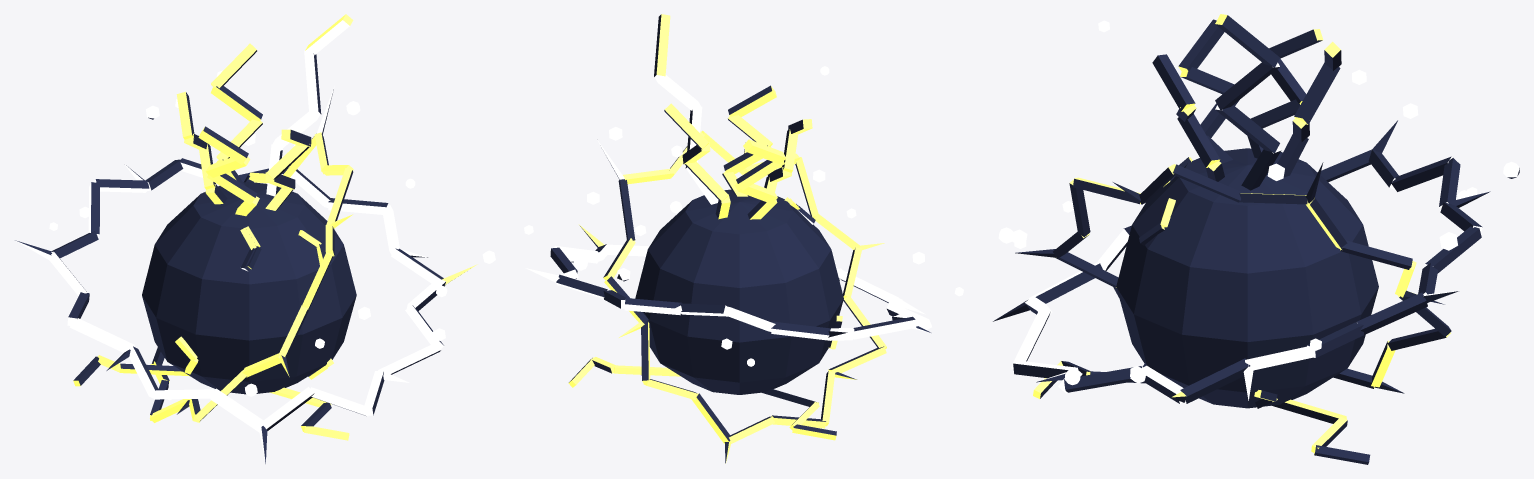
The model's file is fruto-trovao.glb.
3 renders of one model, left to right at view 1: azimuth 30°, elevation 25°; view 2: azimuth 150°, elevation 25°; view 3: azimuth 270°, elevation 25°, orthographic. The views are drawn at different scales.
Visible parts, largest first — view 1: Fruit_Body; view 2: Fruit_Body; view 3: Fruit_Body.
Boxes of the visible parts, left/top/right/bottom form: Fruit_Body: left=14, top=14, right=495, bottom=463; Fruit_Body: left=524, top=14, right=963, bottom=463; Fruit_Body: left=993, top=14, right=1519, bottom=464.
Size of the model in its own units: 2.06 by 1.94 by 2.01.
